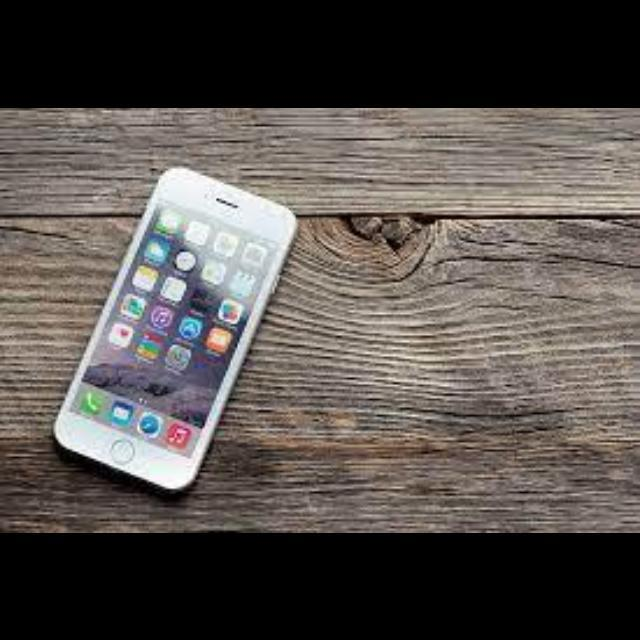PhoneUse: (54, 164, 300, 488)
